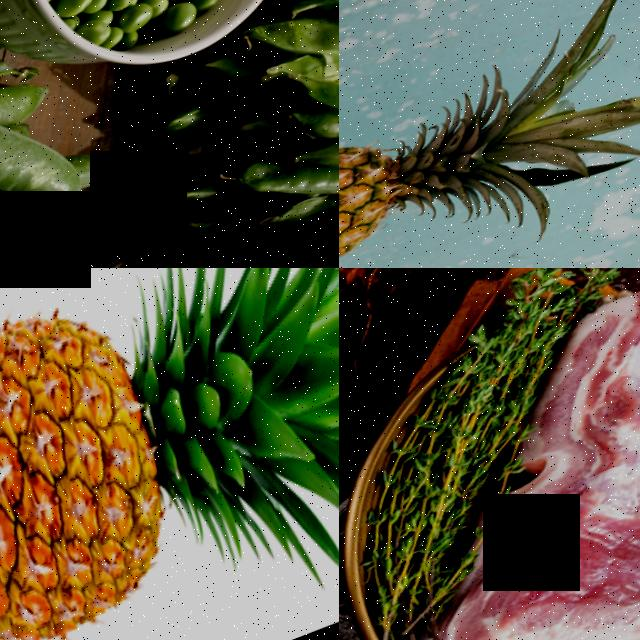peas: (0, 0, 292, 62)
pineapple: (0, 268, 305, 640), (339, 84, 516, 268)
pork belly: (491, 268, 640, 581), (406, 496, 640, 640)
